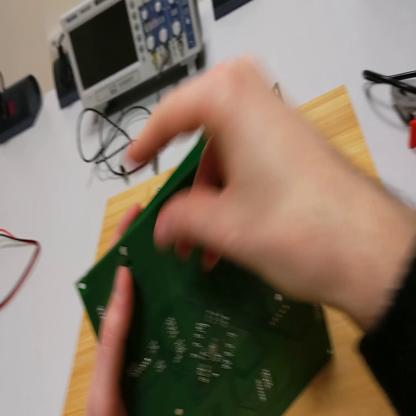hand: (130, 52, 355, 305), (83, 200, 141, 413)
low voltage board: (75, 82, 339, 415)
oscilloscope: (62, 3, 204, 125)
oscilloscope probe tip: (146, 152, 160, 174)
pliers: (394, 79, 416, 152)
socket: (1, 72, 45, 149), (52, 56, 81, 114)
working area: (64, 85, 395, 415)
